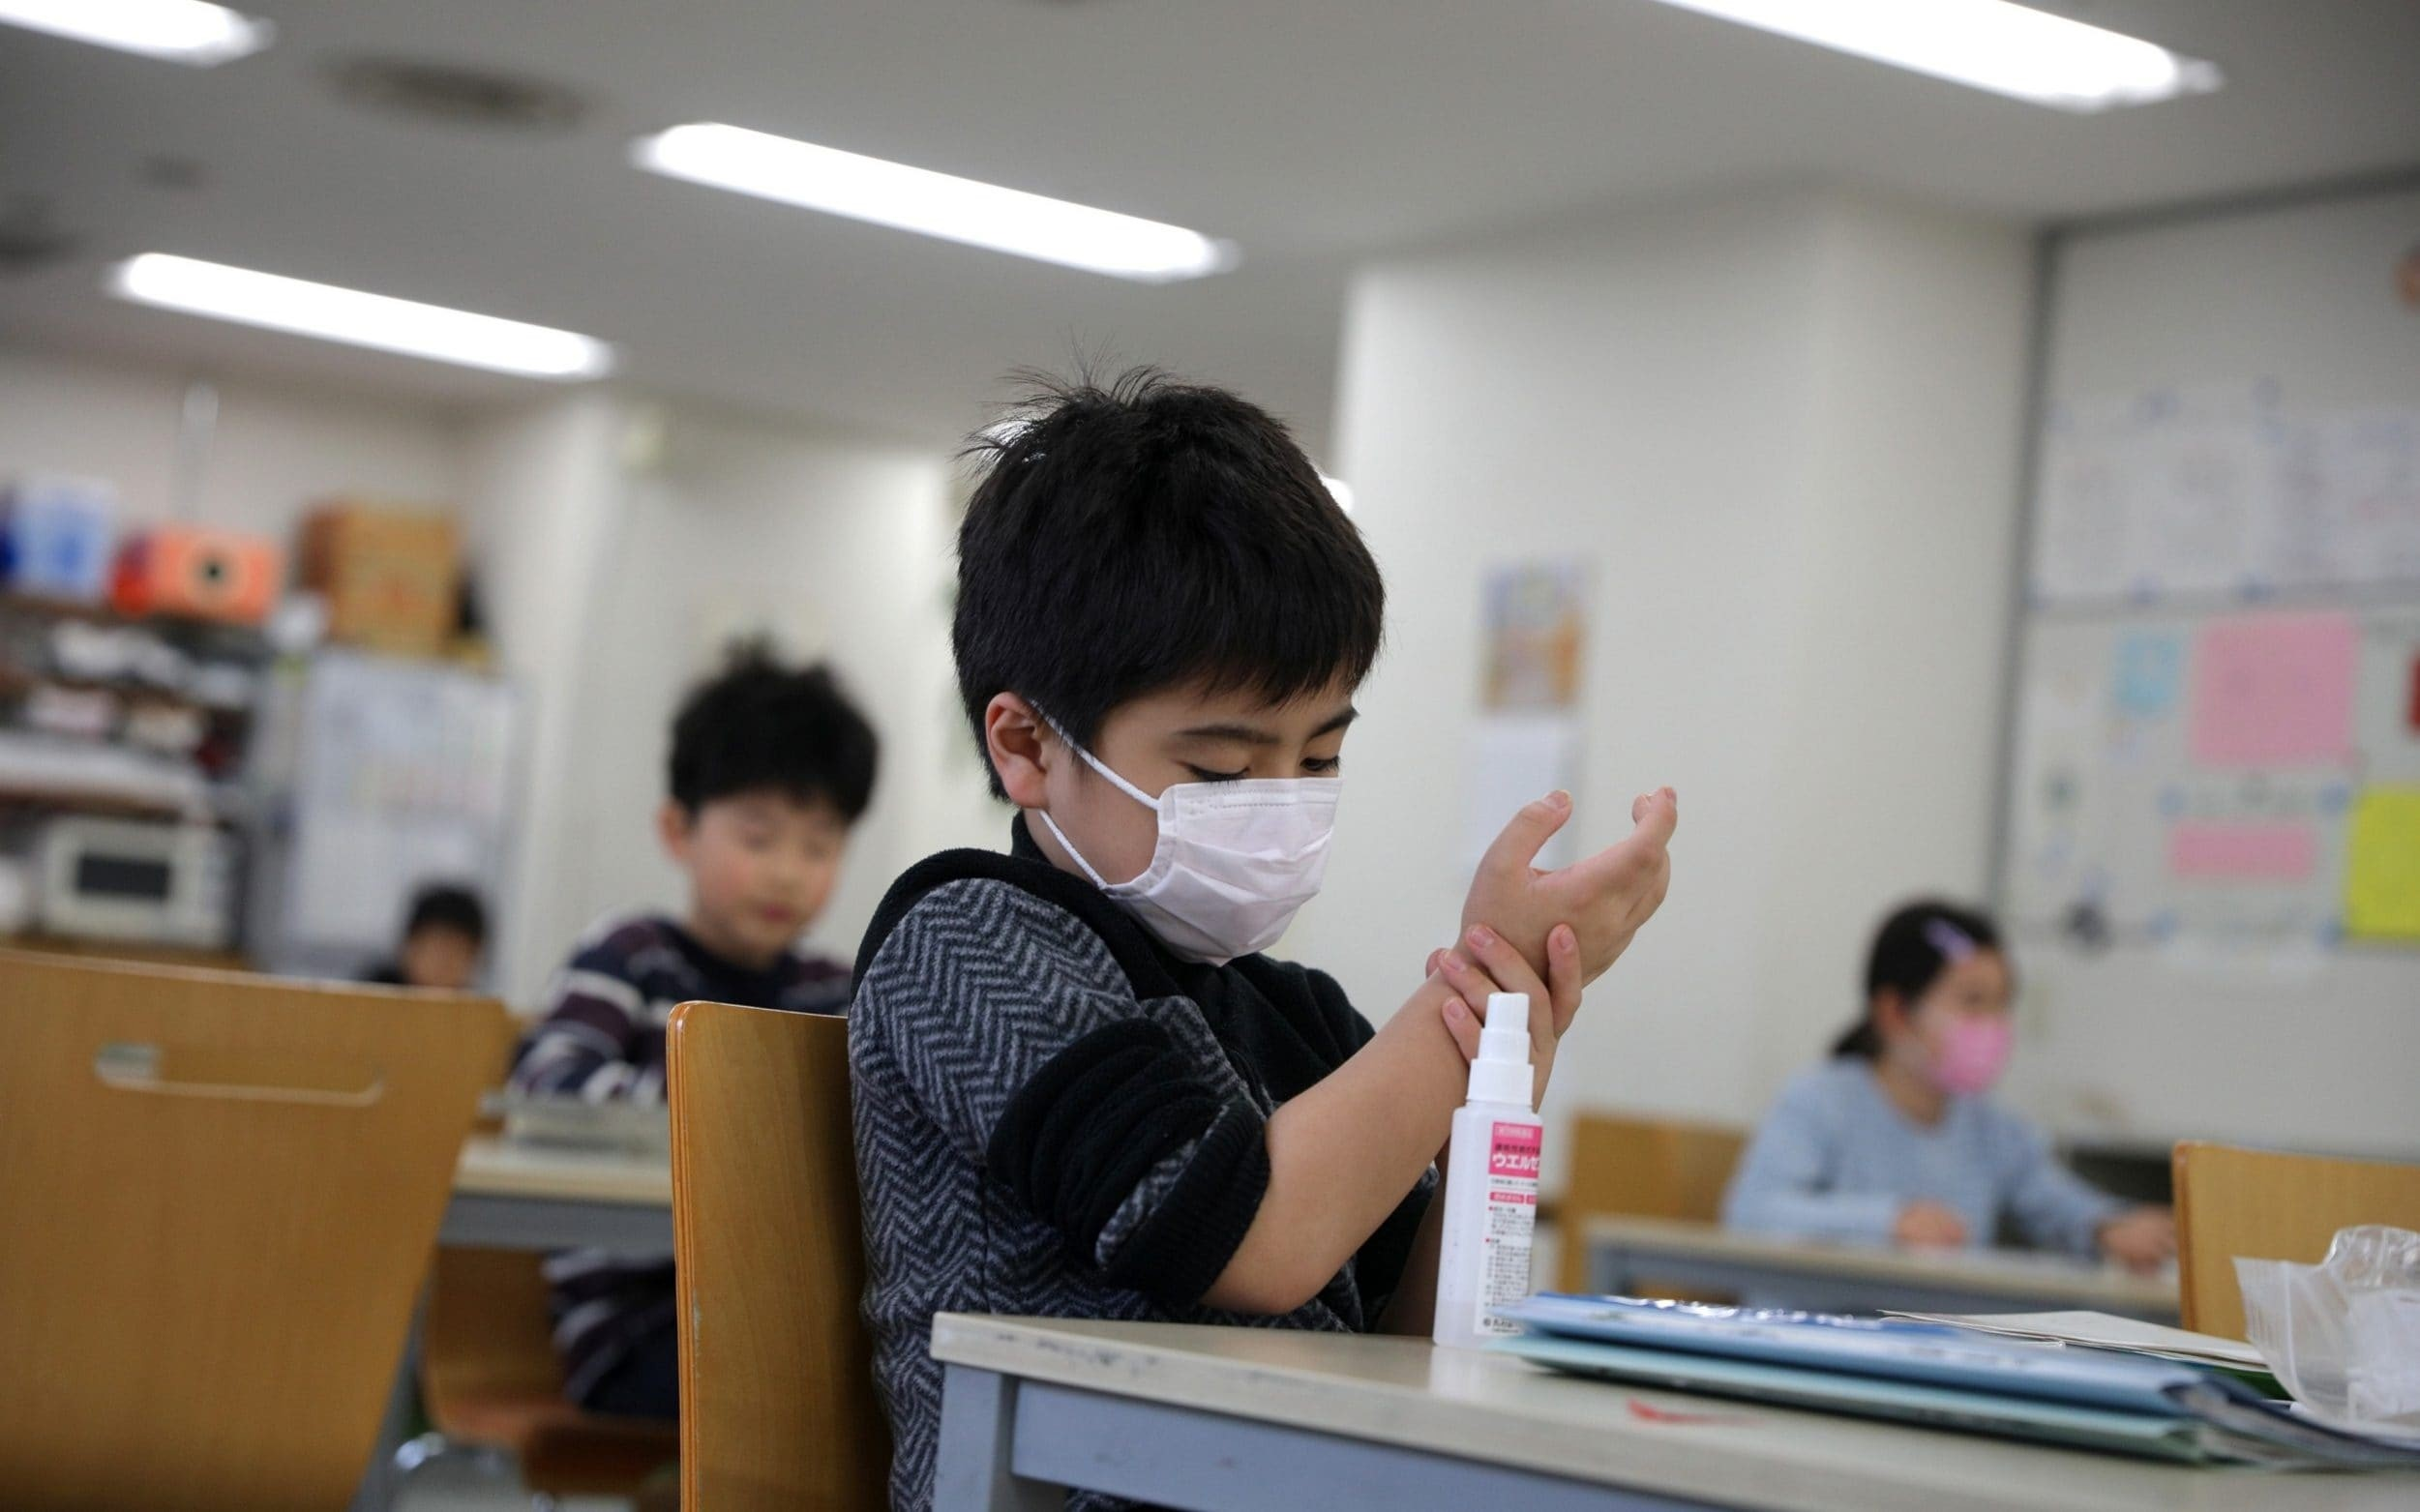face_no_mask: (665, 633, 870, 960)
face_with_mask: (958, 365, 1379, 960), (1857, 902, 2021, 1106)
